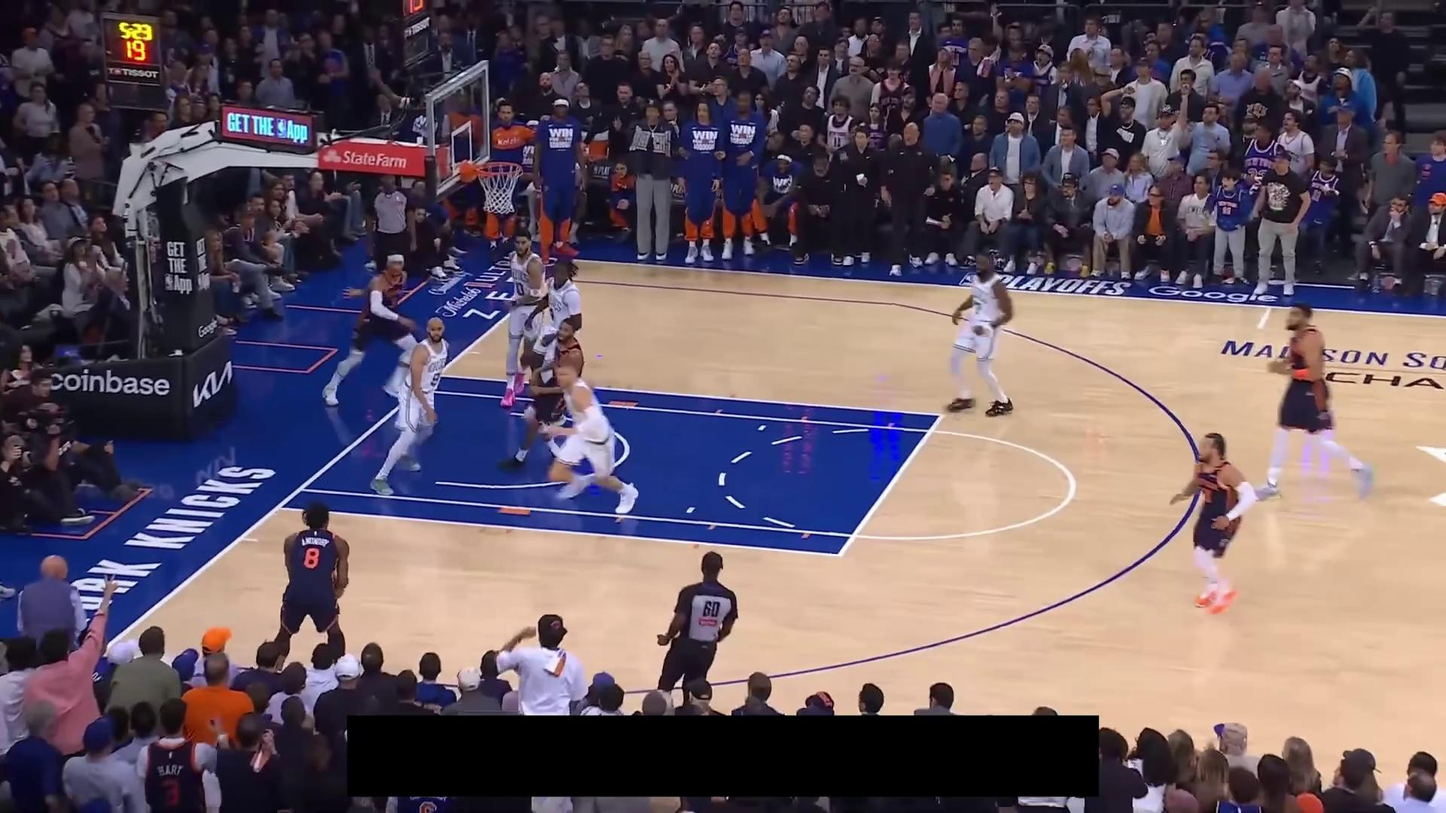number: (301, 546, 322, 572), (514, 280, 525, 298), (431, 371, 441, 387), (973, 300, 983, 315)
player: (1255, 297, 1374, 500), (1171, 430, 1259, 614), (321, 249, 421, 410), (543, 363, 642, 517), (497, 317, 593, 473), (370, 317, 452, 496), (269, 499, 354, 670), (940, 248, 1021, 420), (522, 255, 585, 422), (498, 223, 549, 409)
referee: (653, 550, 741, 696), (362, 175, 420, 271)
rim: (477, 160, 524, 179)
